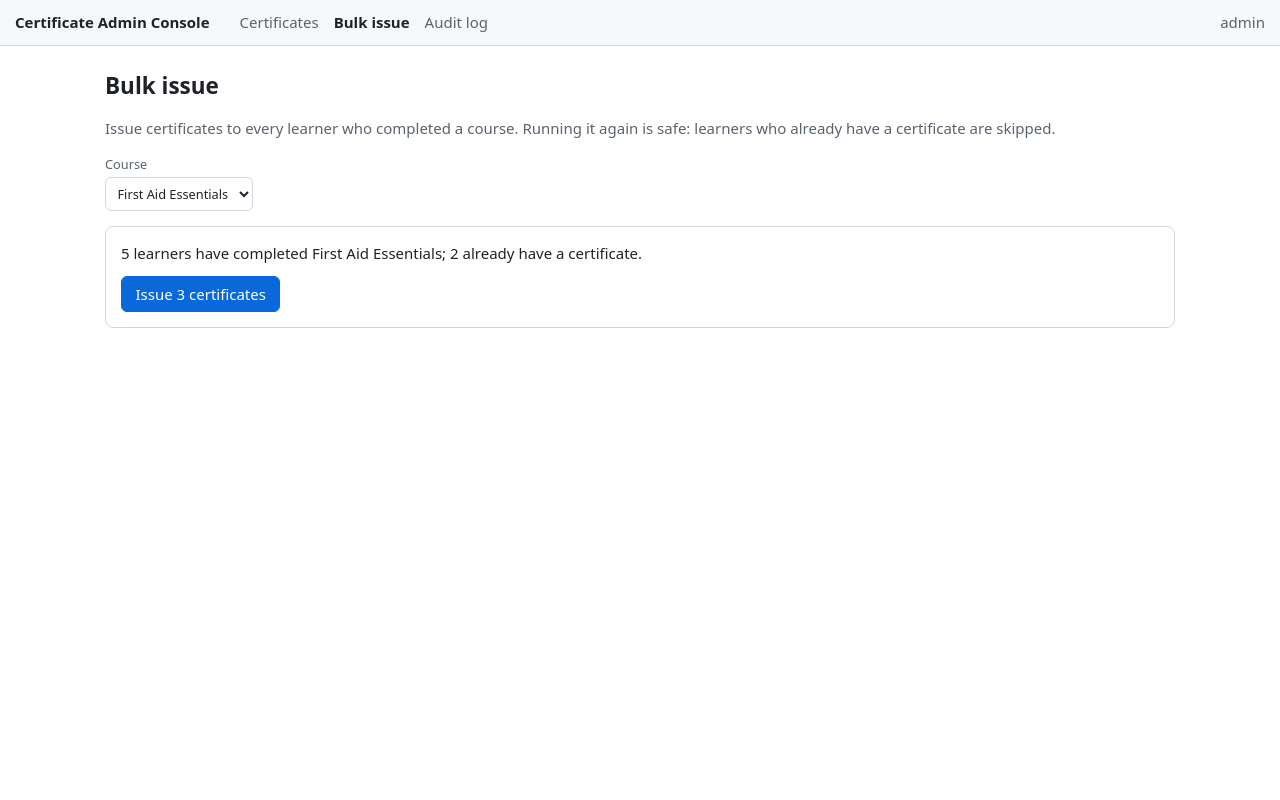
Test case: BulkIssuePage › runs again safely: a second run reports everyone as skipped
Click the button "Issue 3 certificates": x=201, y=294 [121,276,280,312]
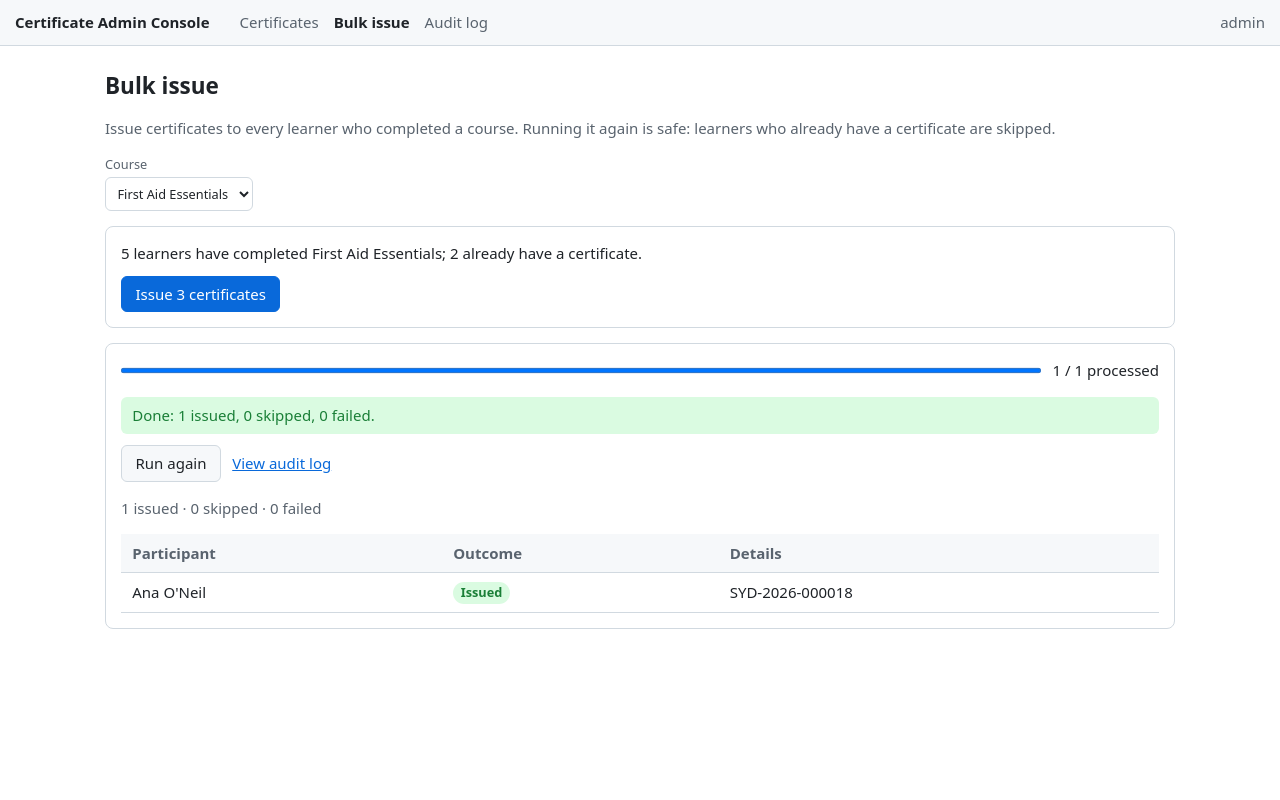
Now the text "Done: 1 issued, 0 skipped, 0 failed." is shown, box [121,397,1159,434]
Click the button "Run again": x=171, y=464 [121,445,221,482]
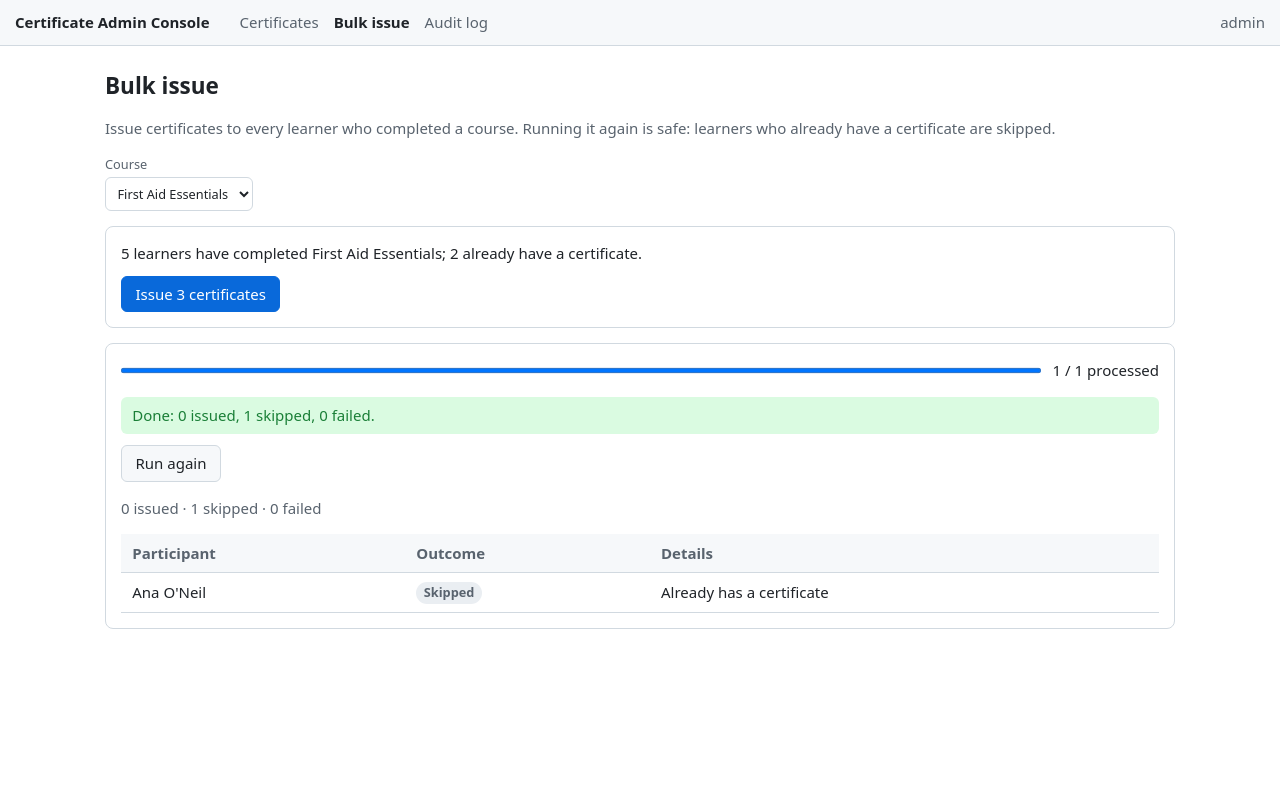
Now the text "Done: 0 issued, 1 skipped, 0 failed." is shown, box [121,397,1159,434]
